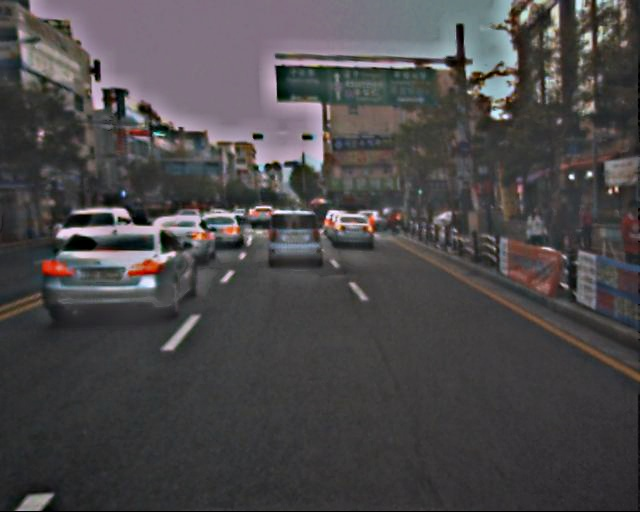person: (609, 200, 640, 290), (521, 206, 548, 271), (572, 200, 594, 253)
